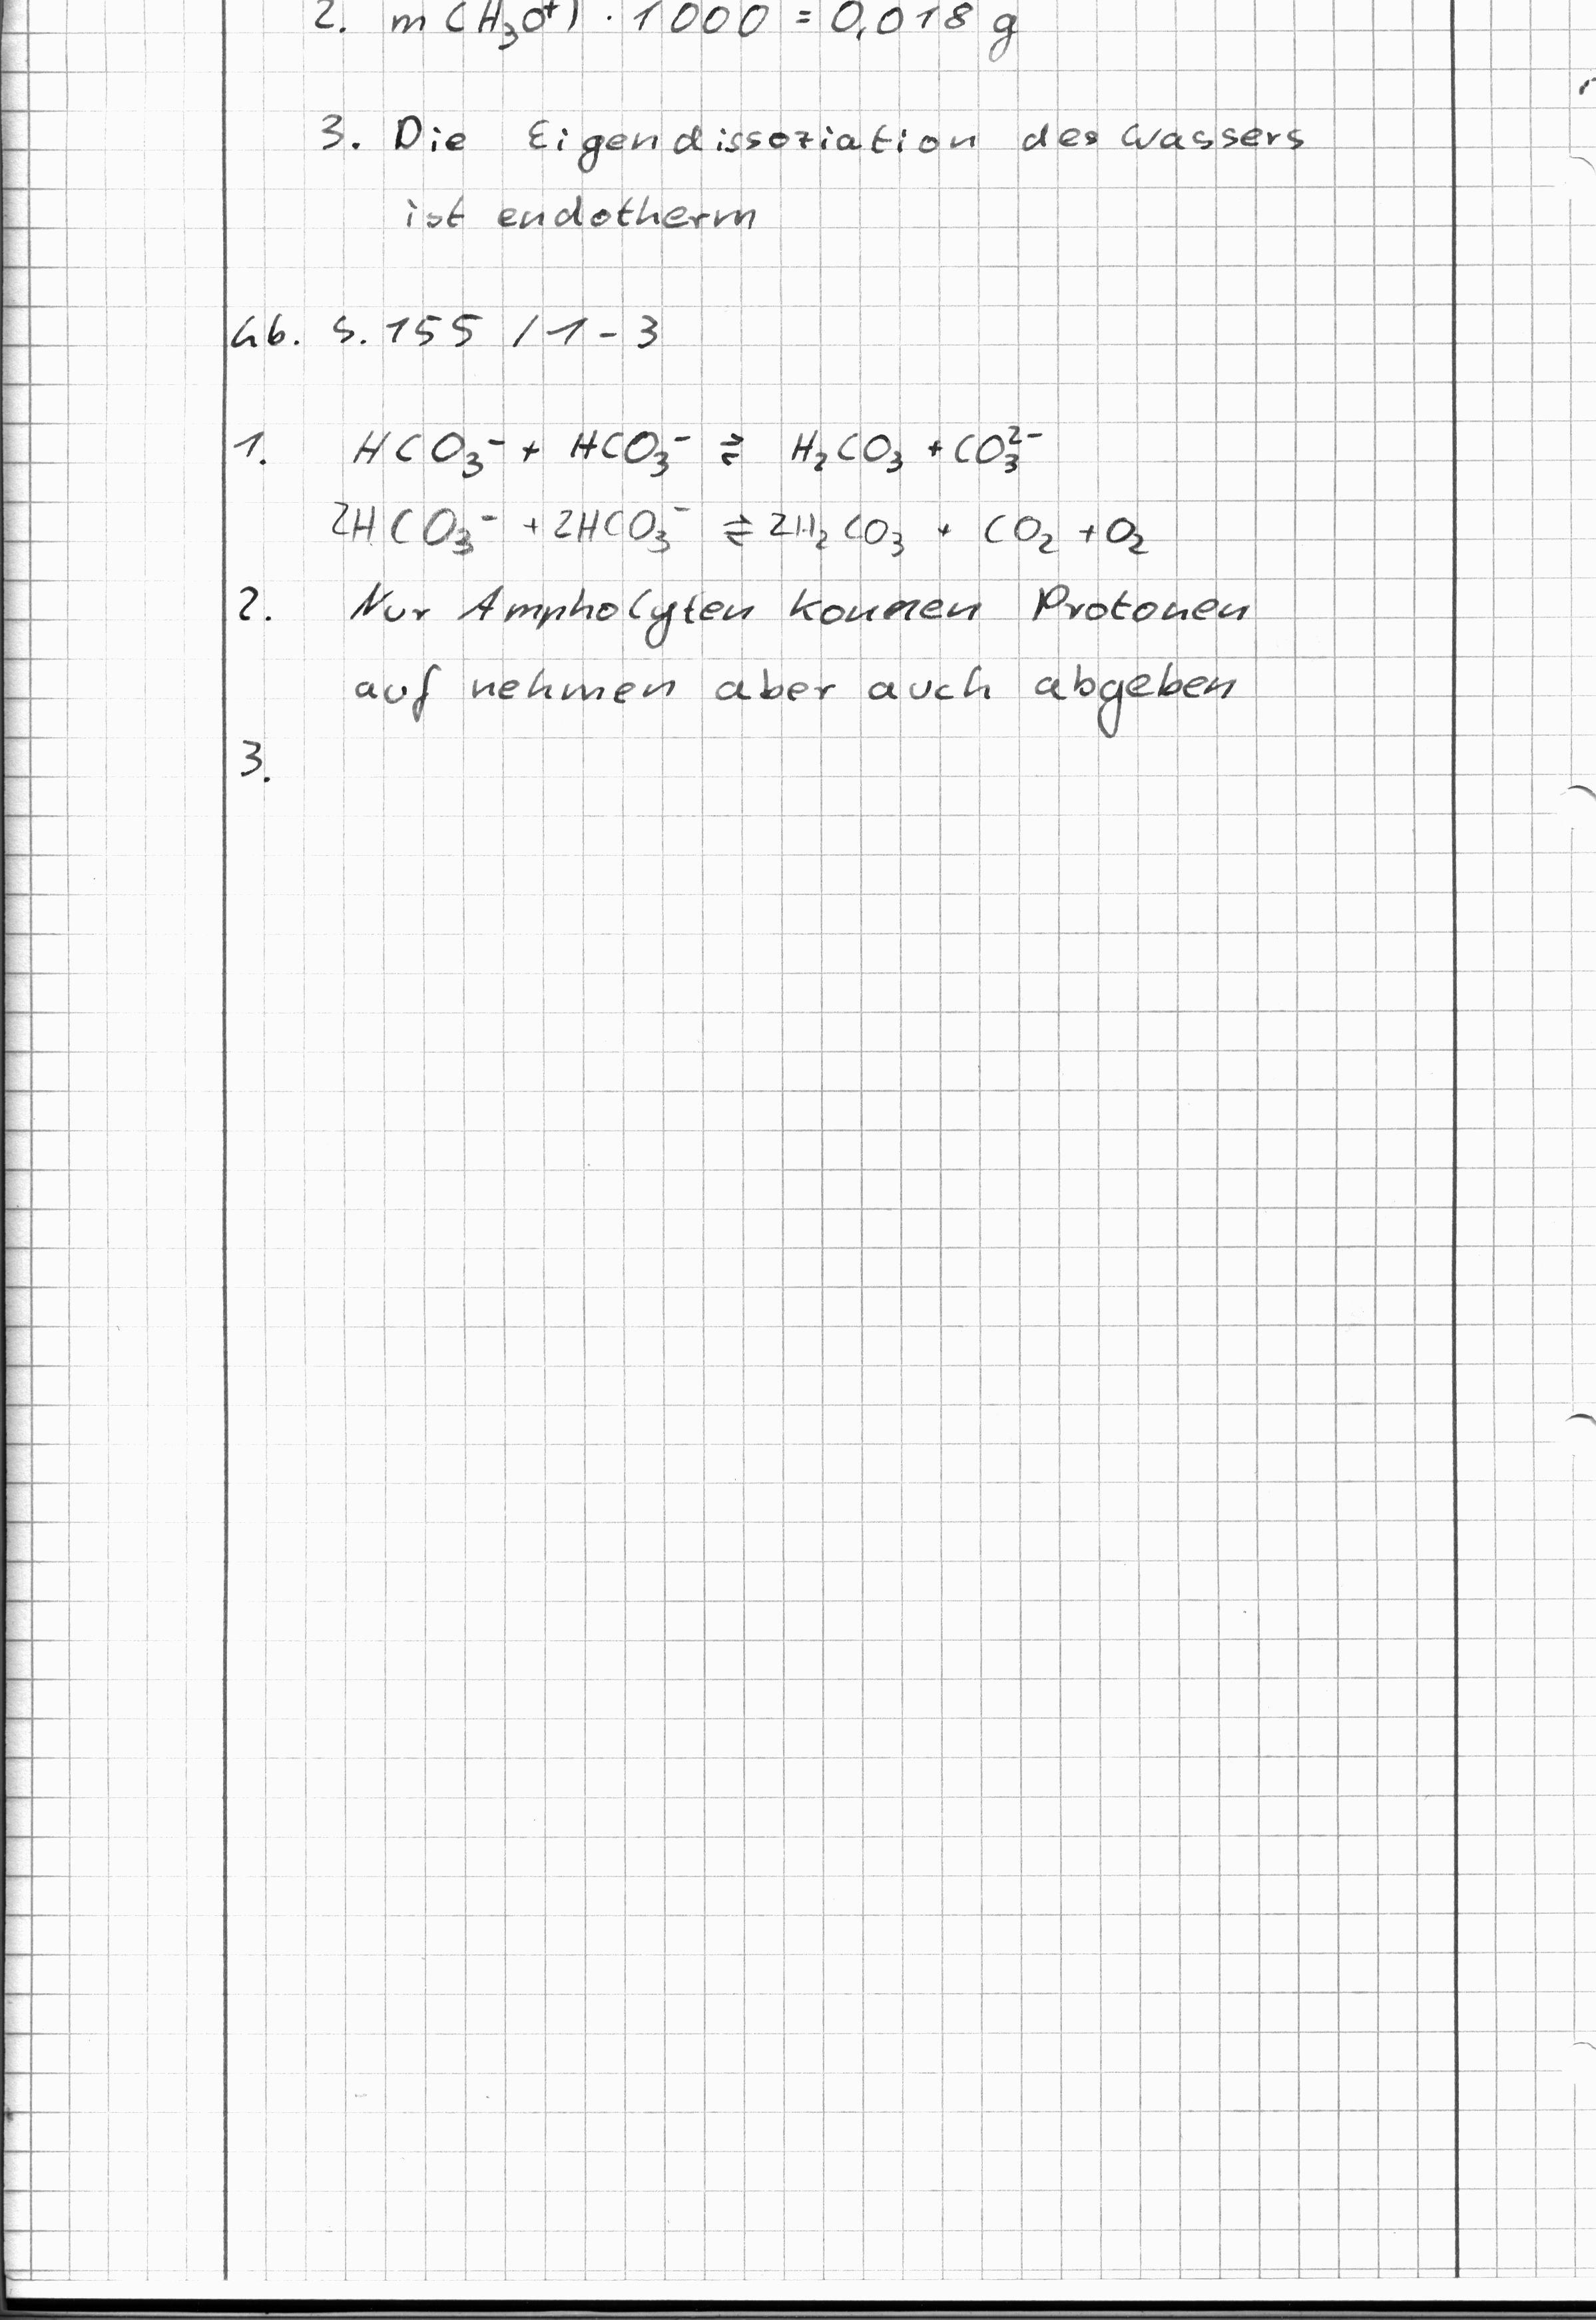word: (316, 416, 1259, 758), (314, 100, 1322, 248), (212, 284, 682, 376), (200, 543, 295, 653), (214, 711, 302, 813), (215, 400, 302, 493)
